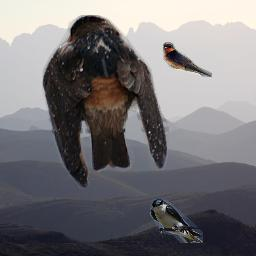Swallow: (42, 15, 169, 189), (150, 199, 203, 243), (163, 42, 212, 77)
